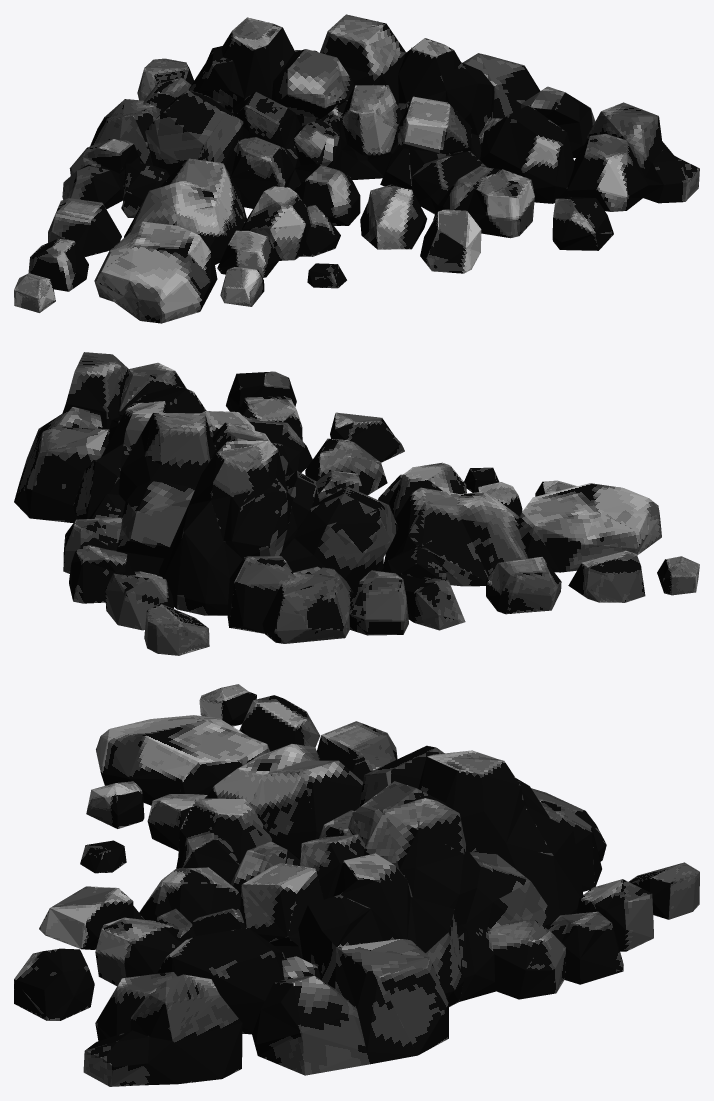
3 views of the same model, one above another, from view 1: azimuth 30°, elevation 25°; view 2: azimuth 150°, elevation 25°; view 3: azimuth 270°, elevation 25° (orthographic). The views are drawn at different scales.
Parts seen in each view (by area): view 1: OBJ0da; view 2: OBJ0da; view 3: OBJ0da.
Part boxes in pixels (x1=…): OBJ0da: x1=14, y1=14, x2=699, y2=323; OBJ0da: x1=14, y1=352, x2=699, y2=655; OBJ0da: x1=14, y1=684, x2=699, y2=1086.
Bounding box in the file's own units: 0.9014 × 0.1686 × 0.6862.
1 material, 1 textured.
